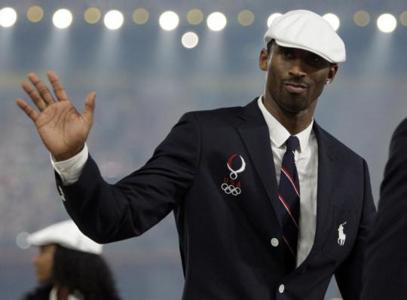person: (16, 11, 384, 300)
